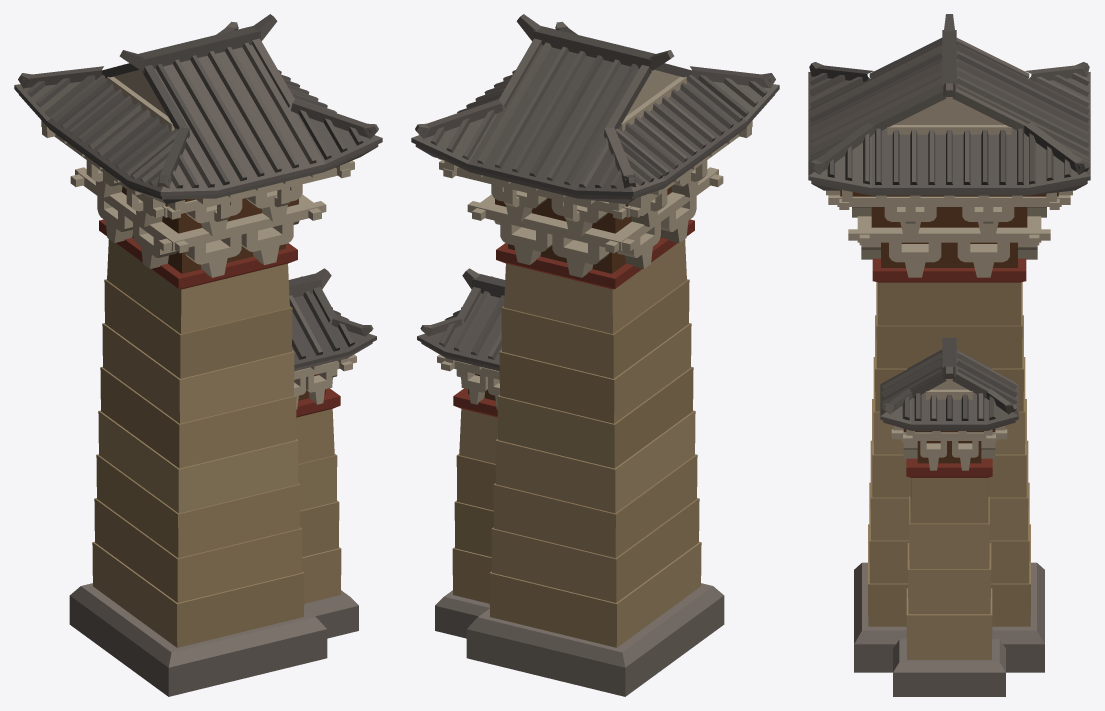
Rendered from que-pillar-tower.glb.
The picture shows the model from 3 angles, left to right: view 1: azimuth 30°, elevation 25°; view 2: azimuth 150°, elevation 25°; view 3: azimuth 270°, elevation 25°; orthographic projection. The views are drawn at different scales.
Visible parts, largest first — view 1: que-pillar-tower-body; view 2: que-pillar-tower-body; view 3: que-pillar-tower-body.
Part boxes in pixels (x1=…): que-pillar-tower-body: x1=14, y1=14, x2=382, y2=696; que-pillar-tower-body: x1=411, y1=14, x2=779, y2=696; que-pillar-tower-body: x1=808, y1=14, x2=1090, y2=696.
Bounding box in the file's own units: 4 × 9.16 × 4.
